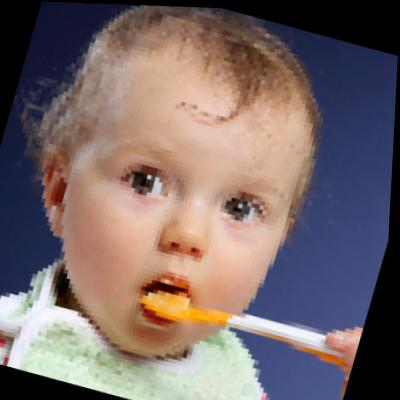surprise: (37, 36, 324, 374)
